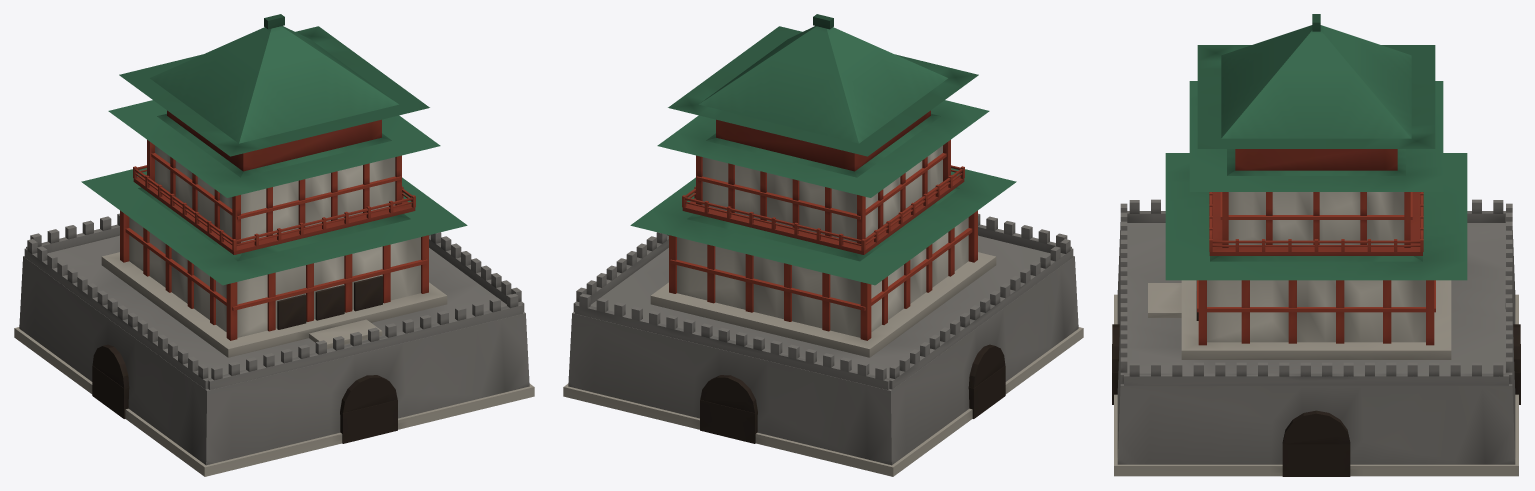
File: bell-tower.glb
The picture shows the model from 3 angles, left to right: view 1: azimuth 30°, elevation 25°; view 2: azimuth 150°, elevation 25°; view 3: azimuth 270°, elevation 25°; orthographic projection. The views are drawn at different scales.
Parts seen in each view (by area): view 1: p0_base, p2_roofs, p1_halls; view 2: p0_base, p2_roofs, p1_halls; view 3: p0_base, p2_roofs, p1_halls.
Boxes of the visible parts, bbox=[...] form: p0_base: bbox=[14, 213, 534, 476]; p2_roofs: bbox=[81, 14, 467, 285]; p1_halls: bbox=[101, 140, 447, 357]; p0_base: bbox=[563, 213, 1083, 476]; p2_roofs: bbox=[630, 14, 1016, 285]; p1_halls: bbox=[650, 140, 996, 357]; p0_base: bbox=[1112, 199, 1520, 476]; p2_roofs: bbox=[1165, 14, 1467, 280]; p1_halls: bbox=[1148, 192, 1451, 359].
Size of the model in its own units: 36.4 by 36.58 by 36.4.
